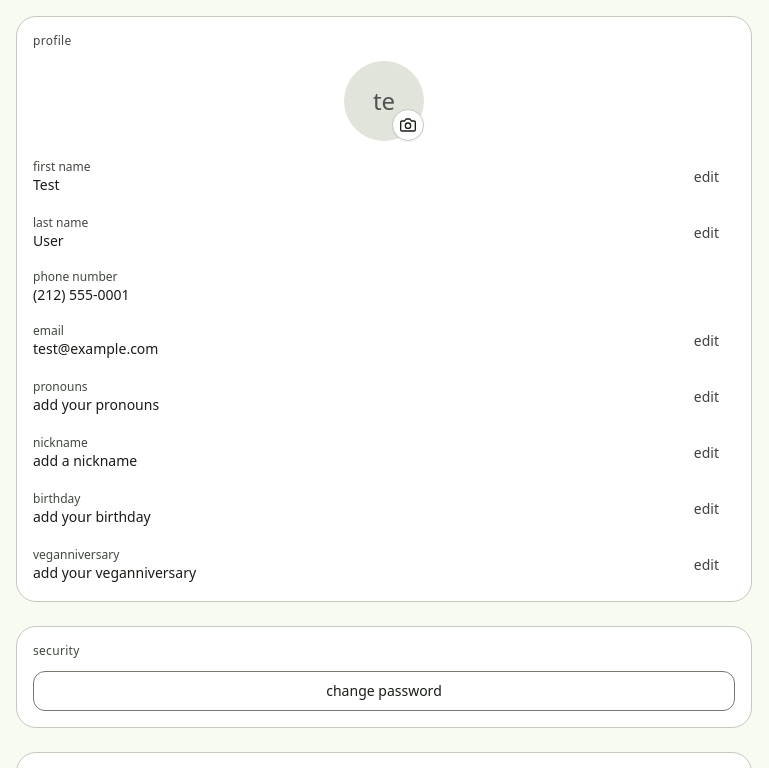
Scenario: SettingsScreen › shows an inline error and does not save when first name has invalid characters
The image size is (769, 768).
Click the button with aria-label "edit first name".
click(706, 177)  # box [678, 157, 735, 197]
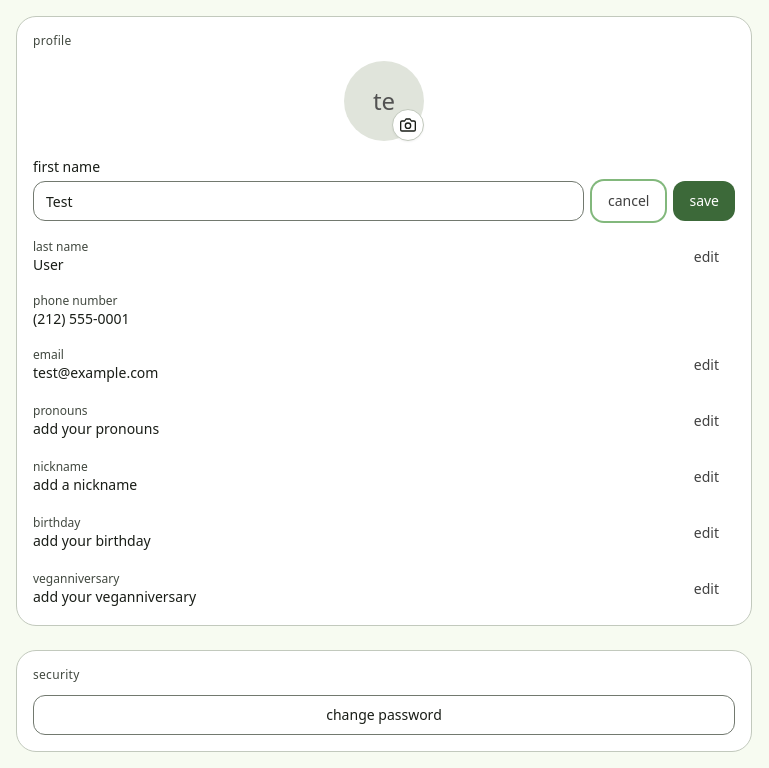
Replace the text in the field labelled "first name" with "John3" at (308, 201), box [33, 181, 584, 221]
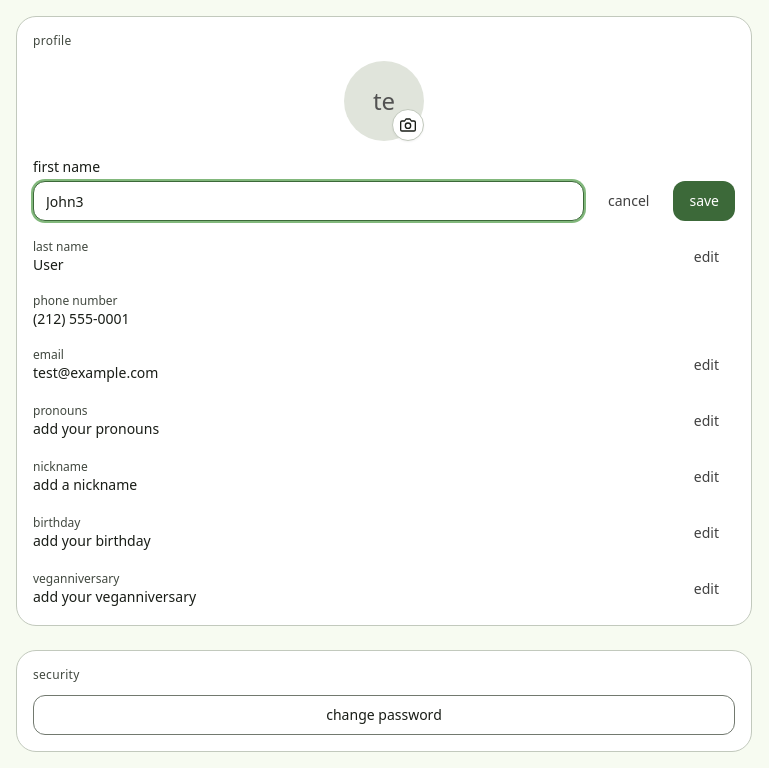
Click the button "save".
click(704, 201)  # box [673, 181, 735, 221]
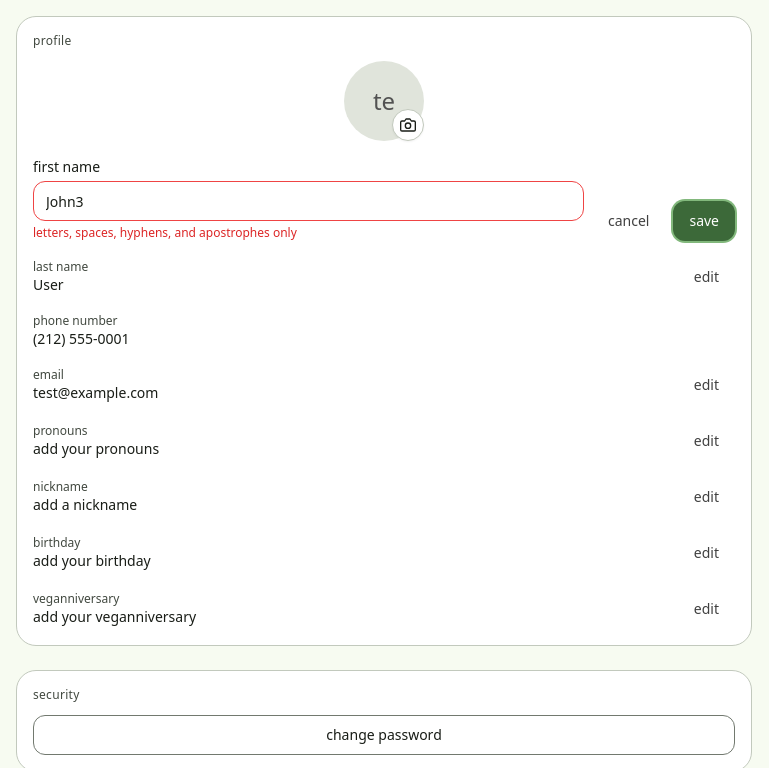
Expected: the text "letters, spaces, hyphens, and apostrophes only" is shown, [33, 224, 297, 241]
